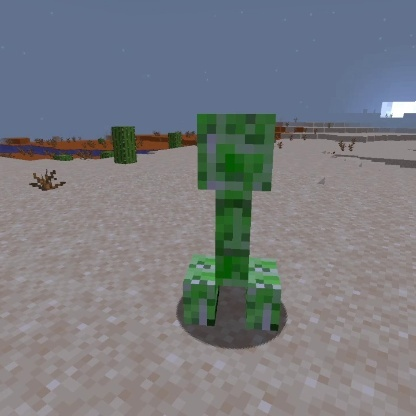creeper: (178, 108, 285, 336)
